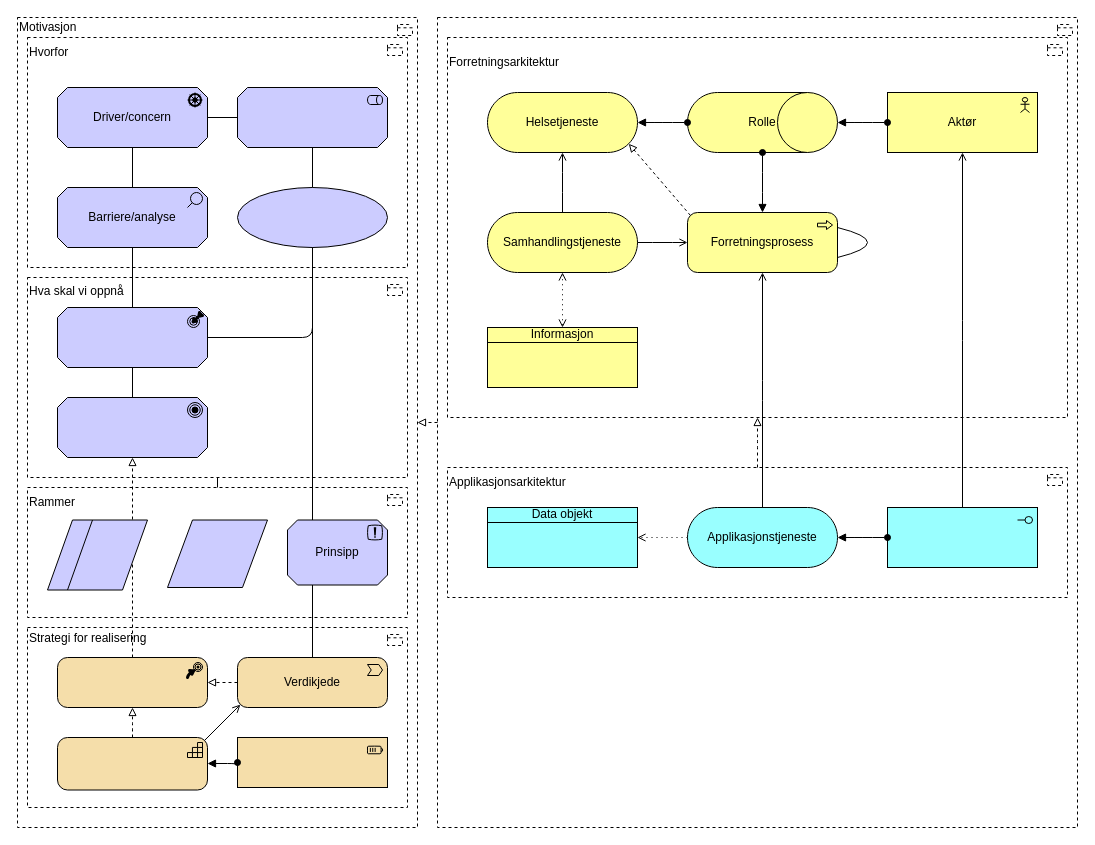
The diagram is 1095 pixels wide and 845 high, and some of its shapes have lost their labels. The centre of each missing label's shape, as x and y in pixels:
"Applikasjons grensesnitt" goes at (962,537).
"Beskrankning" goes at (97,554).
"Interessent" goes at (312,117).
"Kapabilitet" goes at (132,763).
"Krav" goes at (217,553).
"Mål" goes at (132,427).
"Outcome/ resultatmål" goes at (132,337).
"Ressurs" goes at (312,762).
"Tiltak" goes at (132,682).
"Verdi" goes at (312,217).
